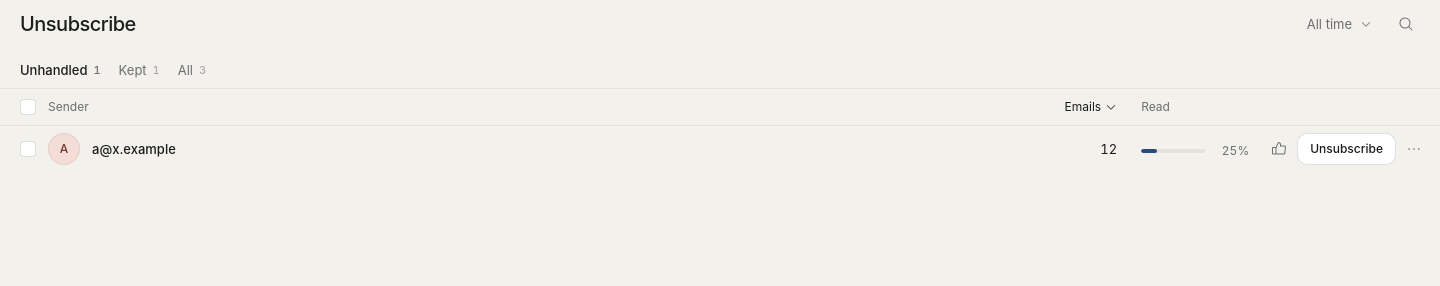
Test: BulkUnsubscribePage › filters with the Unhandled / Kept / All tabs and shows a decided sender as a word
Check: the text "a@x.example" is shown, box left=92, top=140, right=176, bottom=158
Press the mouse on the tab "Kept 1" at (139, 70), box left=111, top=52, right=168, bottom=88
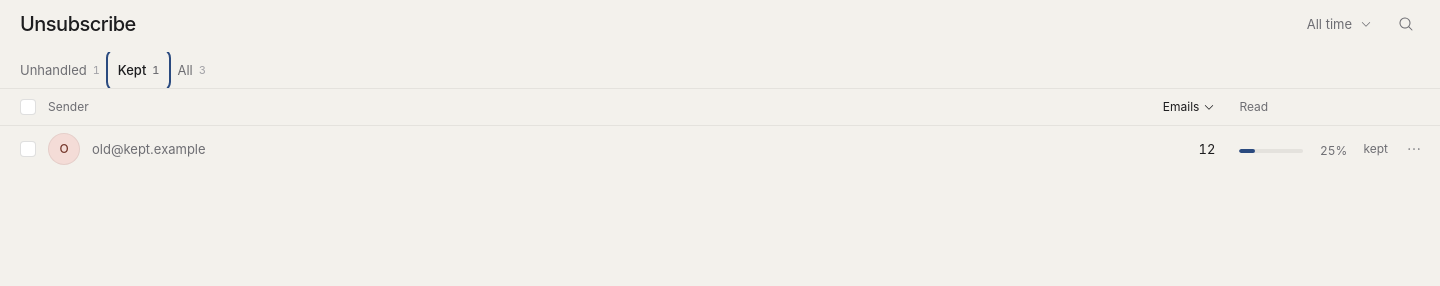
Check: the text "old@kept.example" is shown, box left=92, top=140, right=206, bottom=158
Check: the text "a@x.example" is gone
Check: the text "kept" is shown, box left=1363, top=141, right=1388, bottom=157
Press the mouse on the tab "All 3" at (192, 70), box left=170, top=52, right=214, bottom=88
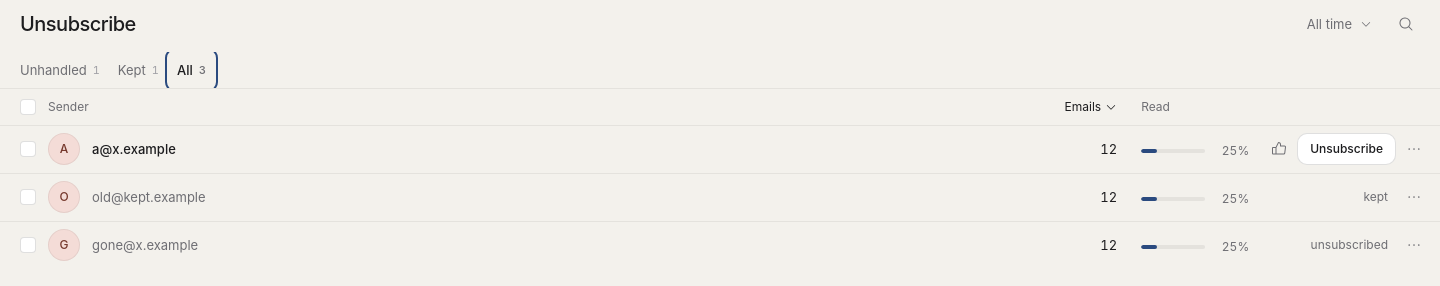
Check: the number of rows is 4, box left=0, top=89, right=1439, bottom=125; left=0, top=125, right=1439, bottom=173; left=0, top=173, right=1439, bottom=221; left=0, top=221, right=1439, bottom=269
Check: the text "gone@x.example" is shown, box left=92, top=236, right=198, bottom=254
Check: the text "unsubscribed" is shown, box left=1311, top=237, right=1388, bottom=253
